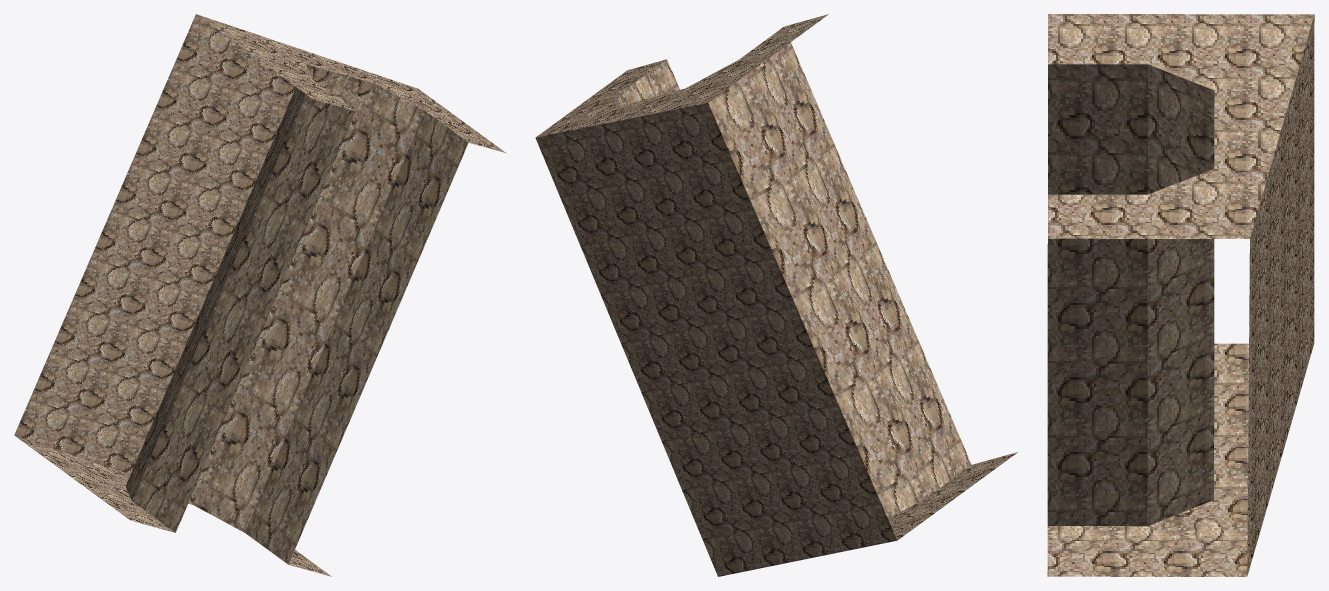
File: Shape_IndexedFaceSet.015.obj
3 renders of one model, left to right at view 1: azimuth 30°, elevation 25°; view 2: azimuth 150°, elevation 25°; view 3: azimuth 270°, elevation 25°, orthographic. The views are drawn at different scales.
Visible parts, largest first — view 1: Shape_IndexedFaceSet.015; view 2: Shape_IndexedFaceSet.015; view 3: Shape_IndexedFaceSet.015.
Boxes of the visible parts, <box> form: Shape_IndexedFaceSet.015: <box>14,14,506,576</box>; Shape_IndexedFaceSet.015: <box>535,14,1017,576</box>; Shape_IndexedFaceSet.015: <box>1047,14,1314,576</box>.
Bounding box in the file's own units: 1.91 × 2.34 × 1.03.
Materials: 1 (1 with a texture image).
